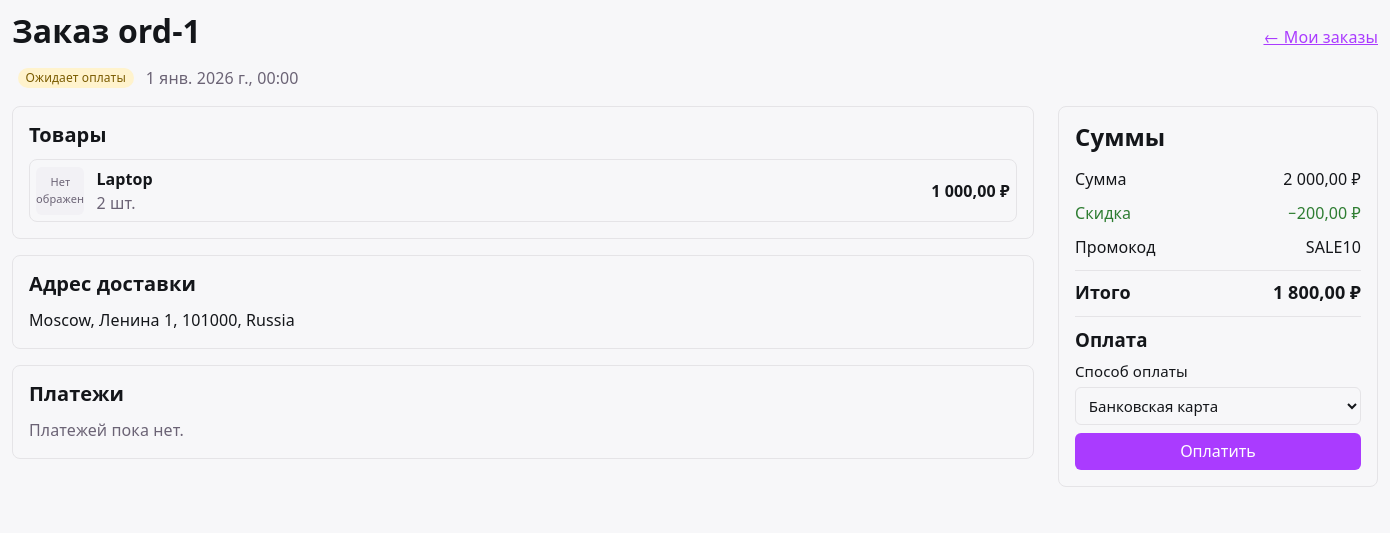
Test: OrderDetailPage › ошибка оплаты показывается, кнопка снова активна
The width and height of the screenshot is (1390, 533).
Check: the heading "Заказ ord-1" is shown, box [12, 12, 201, 50]
Click the button "Оплатить": (1218, 452) [1075, 433, 1361, 470]
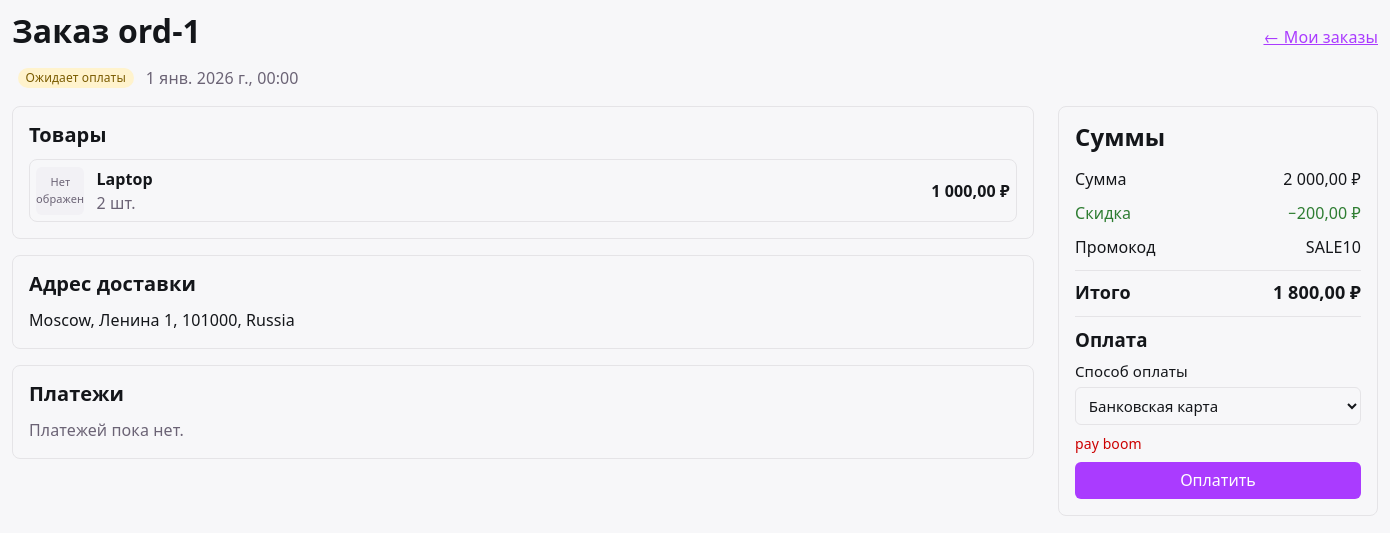
Check: the button "Оплатить" is enabled, box [1075, 462, 1361, 500]
Check: the text "pay boom" is shown, box [1075, 434, 1142, 453]
